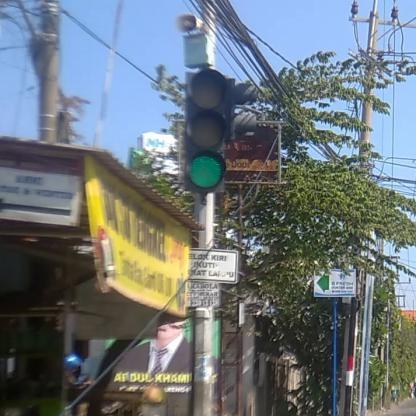green: (186, 74, 229, 194)
